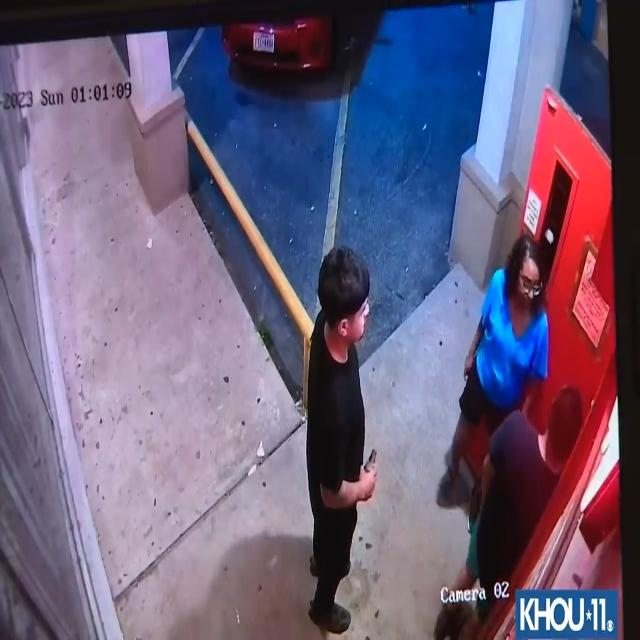Person: (458, 374, 584, 630), (303, 241, 372, 630), (473, 227, 554, 433)
